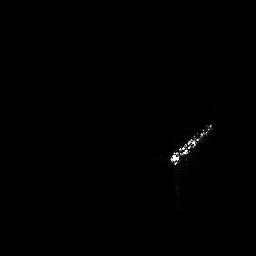ship: (165, 119, 218, 169)
